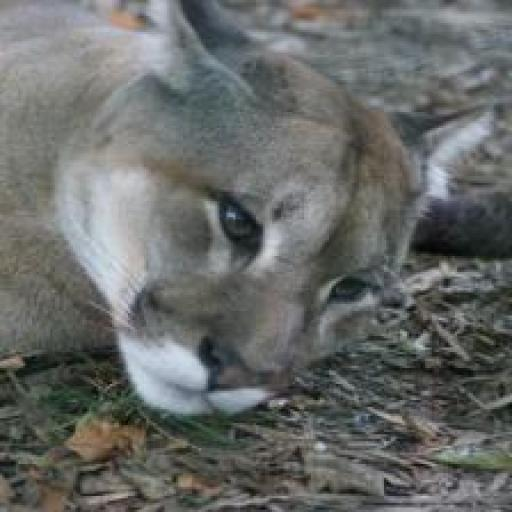lion: (0, 4, 502, 511)
